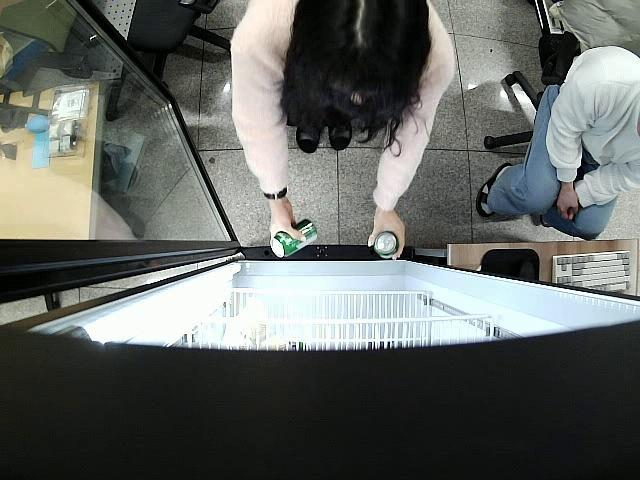12_chilsungCider: (270, 218, 318, 258), (372, 230, 401, 262)
